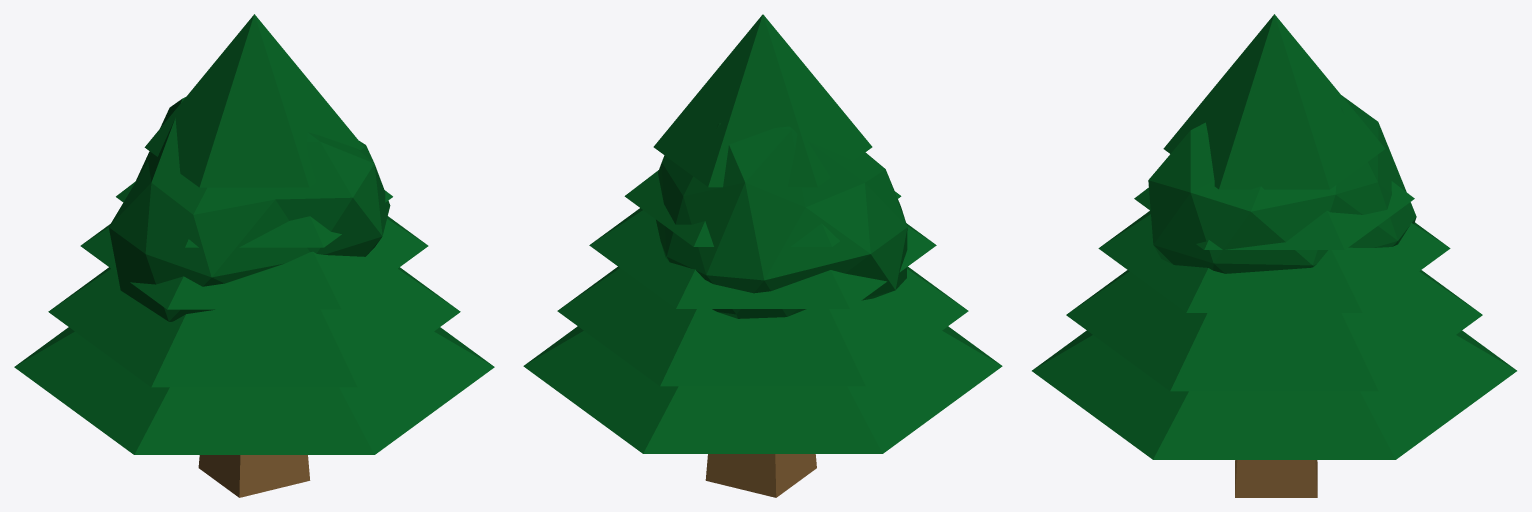
File: low poly three2.fbx
The picture shows the model from 3 angles, left to right: view 1: azimuth 30°, elevation 25°; view 2: azimuth 150°, elevation 25°; view 3: azimuth 270°, elevation 25°; orthographic projection.
Parts seen in each view (by area): view 1: Cube.001, Cube; view 2: Cube.001, Cube; view 3: Cube.001, Cube.
Boxes of the visible parts, bbox=[...] form: Cube.001: bbox=[14, 14, 494, 497]; Cube: bbox=[108, 97, 390, 321]; Cube.001: bbox=[523, 14, 1002, 497]; Cube: bbox=[656, 123, 907, 318]; Cube.001: bbox=[1032, 14, 1516, 497]; Cube: bbox=[1148, 95, 1416, 273].
Size of the model in its own units: 1019 by 1252 by 1177.
